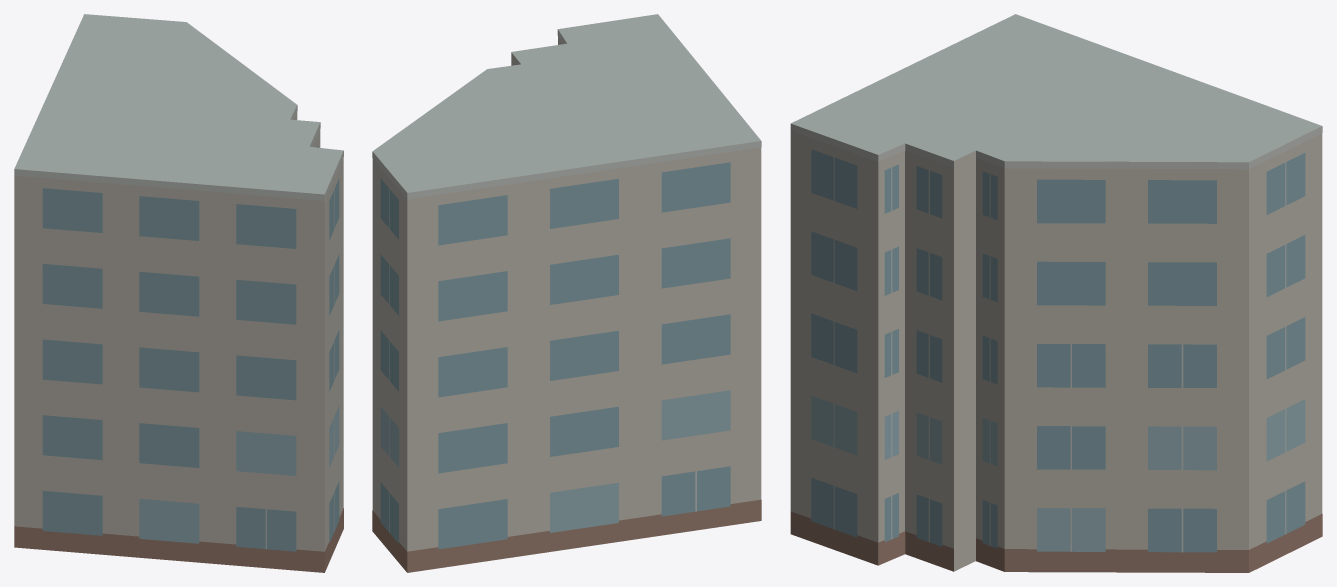
The model's file is survey-upis-32883980.glb.
The picture shows the model from 3 angles, left to right: view 1: azimuth 30°, elevation 25°; view 2: azimuth 150°, elevation 25°; view 3: azimuth 270°, elevation 25°; orthographic projection. The views are drawn at different scales.
Visible parts, largest first — view 1: survey-upis-32883980.tmp; view 2: survey-upis-32883980.tmp; view 3: survey-upis-32883980.tmp.
Boxes of the visible parts, x1,y1,x2,y2 form: survey-upis-32883980.tmp: (14, 14, 343, 572); survey-upis-32883980.tmp: (372, 14, 761, 572); survey-upis-32883980.tmp: (790, 14, 1322, 572).
Size of the model in its own units: 11.16 by 14.4 by 16.91.
